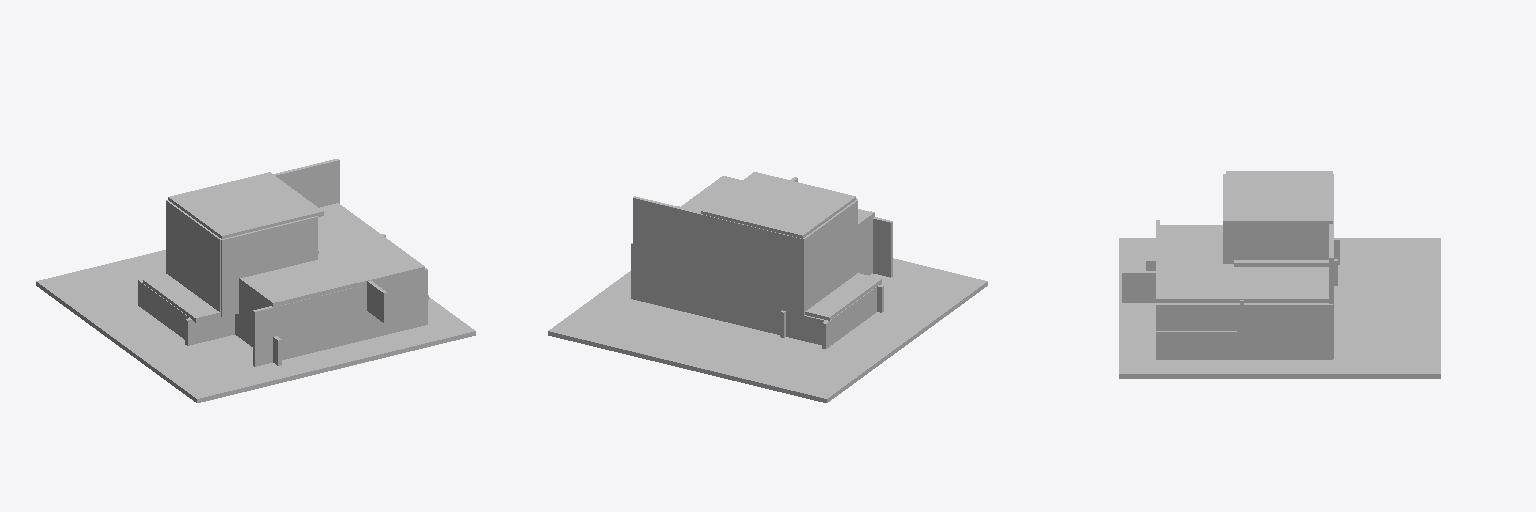
The model's file is House.obj.
The picture shows the model from 3 angles: view 1: azimuth 30°, elevation 25°; view 2: azimuth 150°, elevation 25°; view 3: azimuth 270°, elevation 25°; orthographic projection.
Parts seen in each view (by area): view 1: Cube_Cube.000, Cube.029_Cube.001, Cube.020_Cube.000, Cube.018_Cube.000, Cube.013_Cube.002, Cube.004_Cube.000, Cube.013_Cube.005, Cube.019_Cube.000, Cube.016_Cube.001, Cube.013_Cube.000, Cube.013_Cube.003, Cube.009_Cube.003 (+4 smaller); view 2: Cube_Cube.000, Cube.016_Cube.001, Cube.016_Cube.000, Cube.029_Cube.001, Cube.006_Cube.000, Cube.013_Cube.002, Cube.013_Cube.000, Cube.009_Cube.003, Cube.020_Cube.000, Cube.018_Cube.000, Cube.017_Cube.000; view 3: Cube_Cube.000, Cube.020_Cube.000, Cube.029_Cube.001, Cube.015_Cube.000, Cube.012_Cube.000, Cube.013_Cube.004, Cube.019_Cube.000, Cube.023_Cube.001, Cube.029_Cube.000.
Boxes of the visible parts, x1,y1,x2,y2 form: Cube_Cube.000: [36, 250, 475, 402]; Cube.029_Cube.001: [168, 172, 323, 238]; Cube.020_Cube.000: [318, 203, 424, 286]; Cube.018_Cube.000: [253, 269, 426, 341]; Cube.013_Cube.002: [167, 201, 220, 315]; Cube.004_Cube.000: [253, 300, 426, 366]; Cube.013_Cube.005: [238, 216, 317, 277]; Cube.019_Cube.000: [245, 254, 357, 305]; Cube.016_Cube.001: [166, 159, 339, 238]; Cube.013_Cube.000: [143, 274, 220, 322]; Cube.013_Cube.003: [221, 235, 239, 317]; Cube.009_Cube.003: [138, 279, 189, 339]; Cube_Cube.000: [548, 258, 987, 402]; Cube.016_Cube.001: [633, 196, 804, 277]; Cube.016_Cube.000: [633, 236, 804, 315]; Cube.029_Cube.001: [701, 172, 855, 238]; Cube.006_Cube.000: [633, 274, 828, 344]; Cube.013_Cube.002: [804, 200, 857, 310]; Cube.013_Cube.000: [805, 273, 881, 320]; Cube.009_Cube.003: [822, 287, 876, 348]; Cube.020_Cube.000: [681, 176, 741, 211]; Cube.018_Cube.000: [873, 217, 892, 252]; Cube.017_Cube.000: [858, 211, 874, 258]; Cube_Cube.000: [1119, 238, 1440, 378]; Cube.020_Cube.000: [1156, 267, 1328, 302]; Cube.029_Cube.001: [1226, 171, 1332, 225]; Cube.015_Cube.000: [1156, 303, 1332, 334]; Cube.012_Cube.000: [1156, 335, 1332, 359]; Cube.013_Cube.004: [1226, 226, 1328, 263]; Cube.019_Cube.000: [1156, 227, 1233, 266]; Cube.023_Cube.001: [1122, 271, 1155, 302]; Cube.029_Cube.000: [1234, 260, 1328, 266].
Size of the model in its own units: 10 by 3.74 by 10.